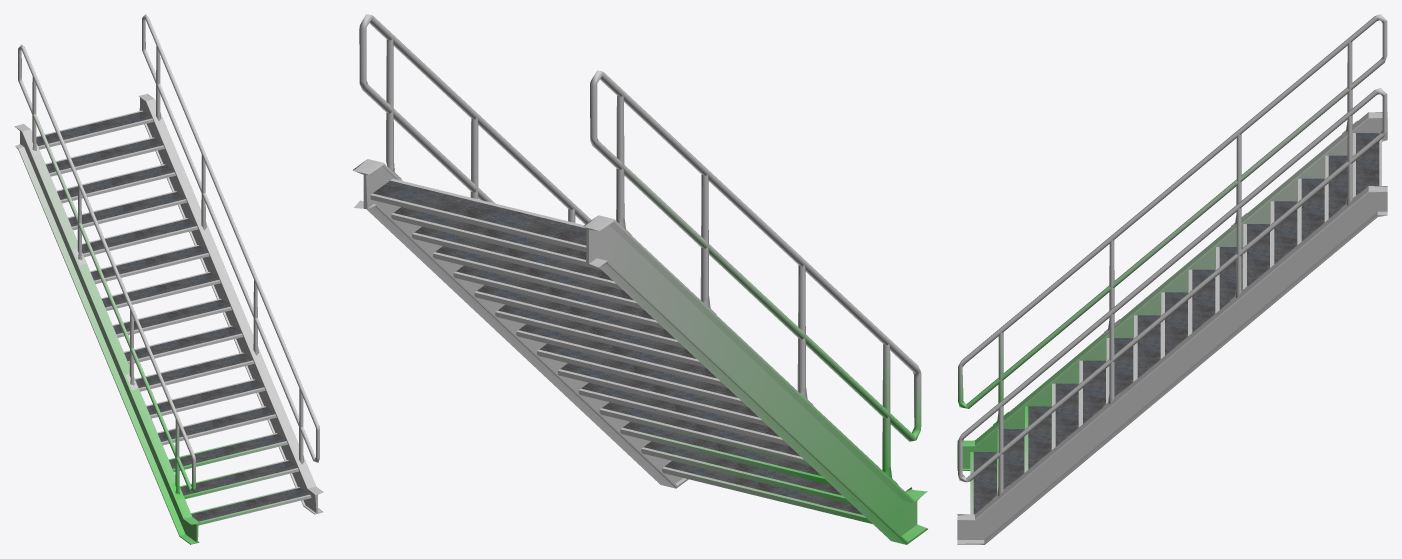
The model's file is SM_Staircase_02@VertexColors_1.fbx.
3 views of the same model, side by side, from view 1: azimuth 30°, elevation 25°; view 2: azimuth 150°, elevation 25°; view 3: azimuth 270°, elevation 25° (orthographic). The views are drawn at different scales.
Visible parts, largest first — view 1: SM_Staircase_02_LOD0; view 2: SM_Staircase_02_LOD0; view 3: SM_Staircase_02_LOD0.
Part boxes in pixels (box(x1,y1,x2,y2)): SM_Staircase_02_LOD0: box(14, 14, 323, 544); SM_Staircase_02_LOD0: box(353, 14, 927, 544); SM_Staircase_02_LOD0: box(957, 14, 1387, 544).
Size of the model in its own units: 199 by 457 by 532.
